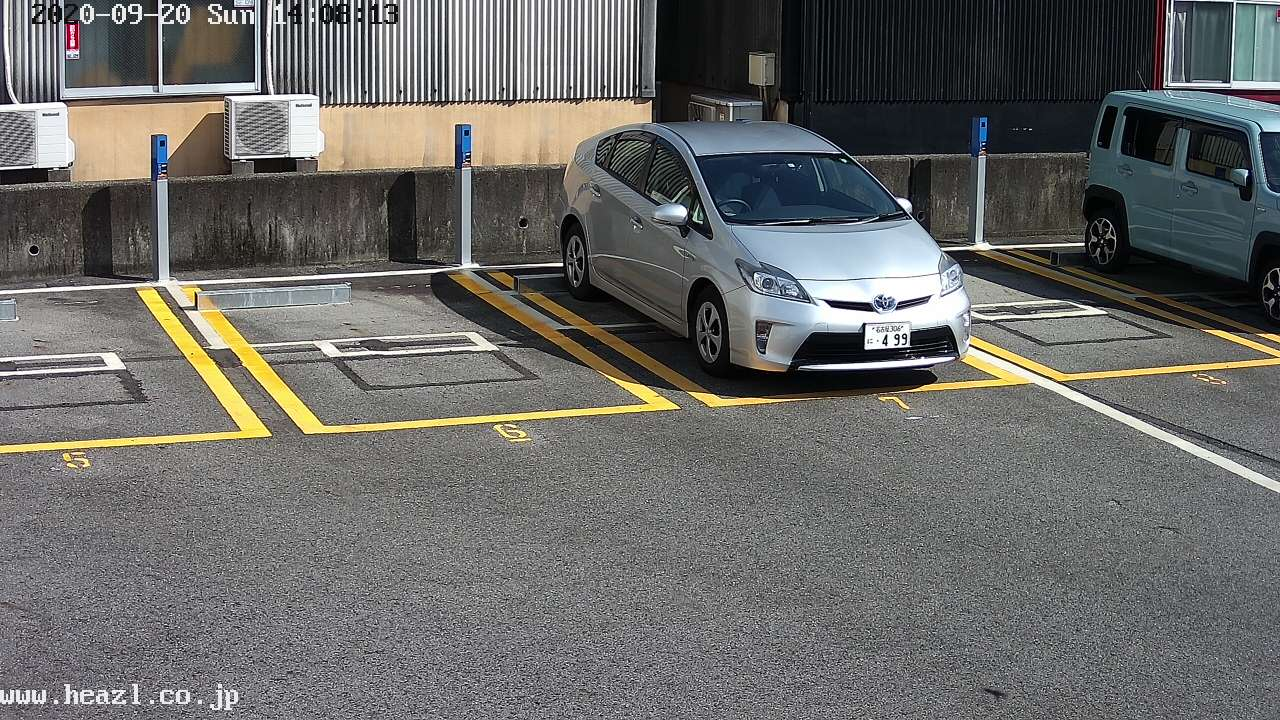number_plate: (862, 322, 911, 350)
